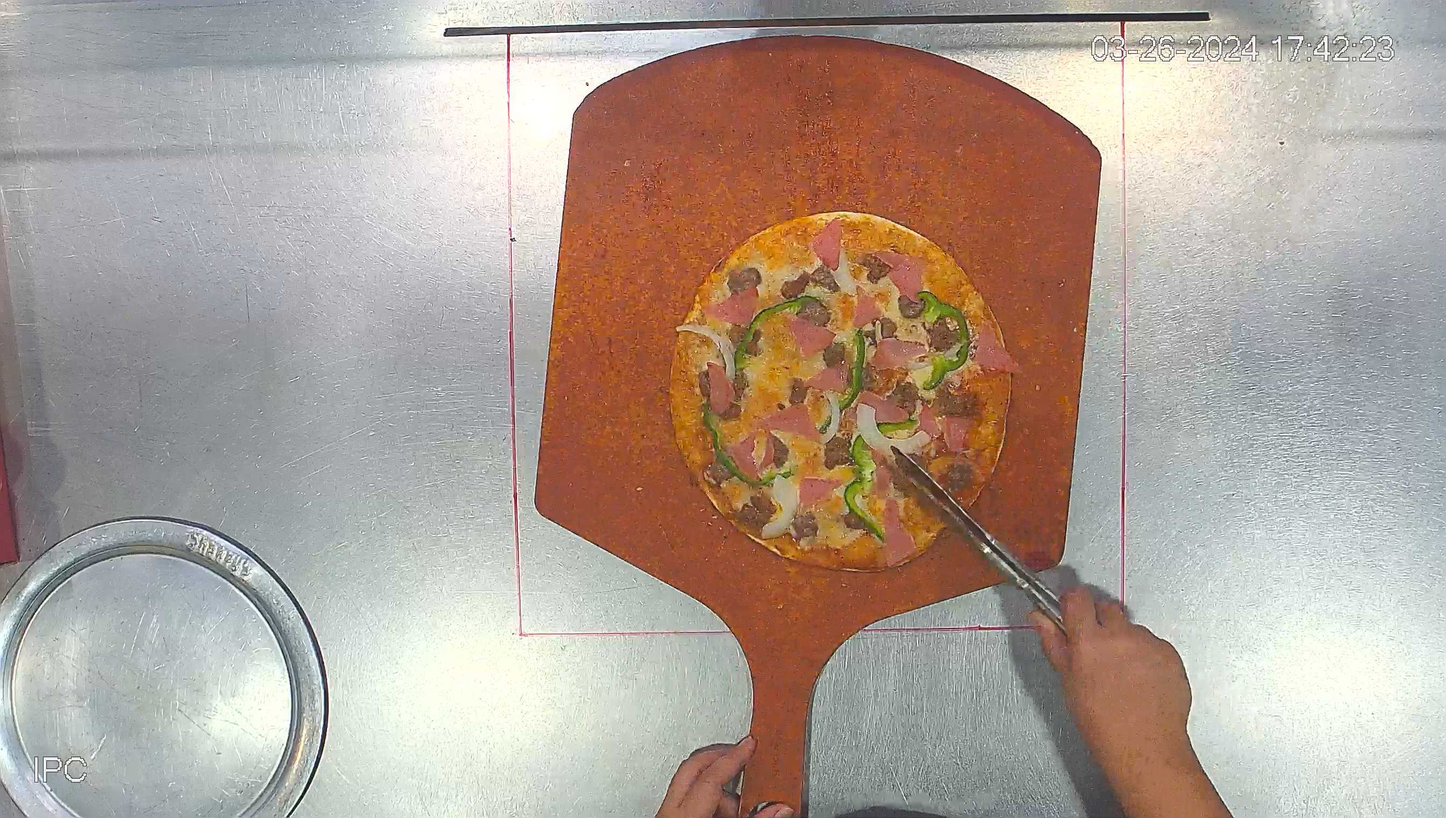hawaiian: (669, 210, 1011, 573)
